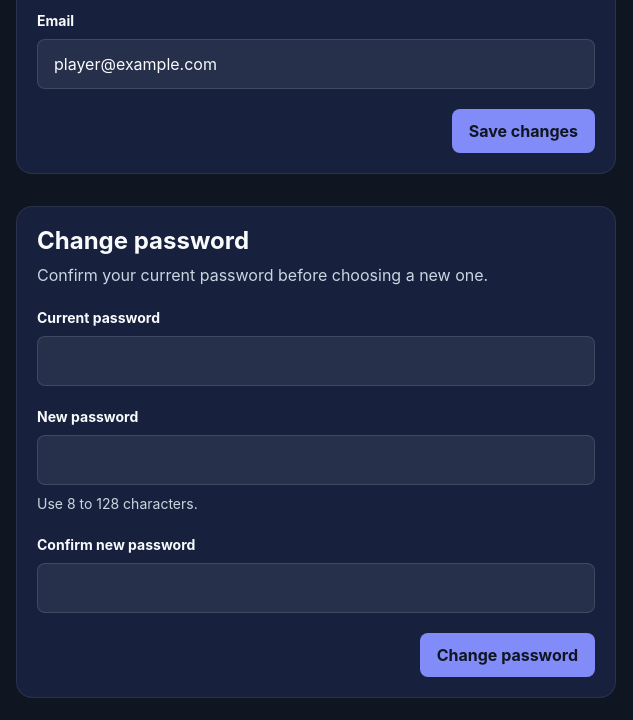
AccountPage password change › rejects a mismatched confirmation in the UI
The width and height of the screenshot is (633, 720).
(page scrolled)
Type "current-password" into the password field labelled "Current password".
click(316, 360); type("current-password")  # box [37, 336, 595, 386]
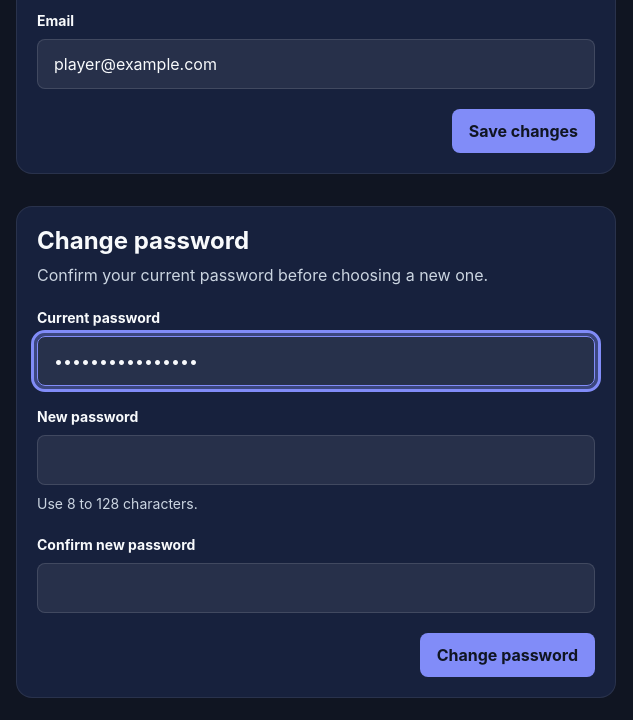
Type "new-password" into the password field labelled "New password".
click(316, 460); type("new-password")  # box [37, 434, 595, 484]
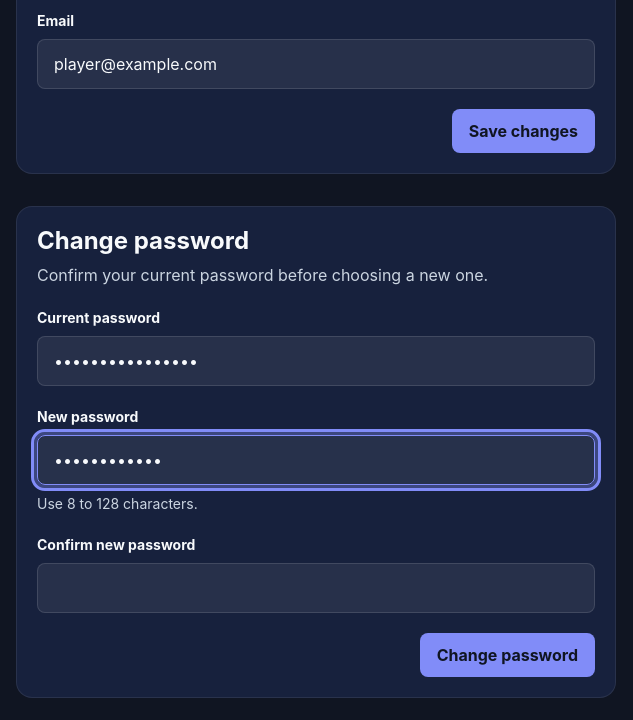
Type "different-password" into the password field labelled "Confirm new password".
click(316, 588); type("different-password")  # box [37, 562, 595, 612]
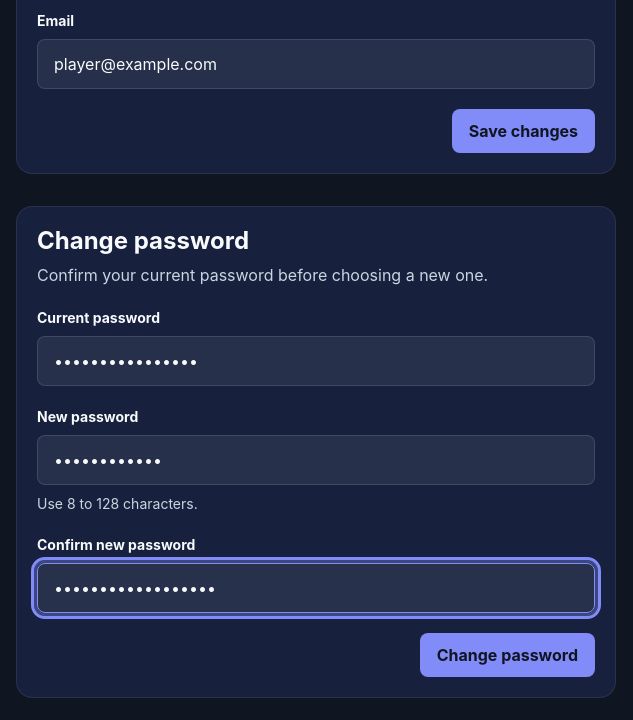
Click the button "Change password".
click(507, 654)  # box [420, 632, 595, 676]
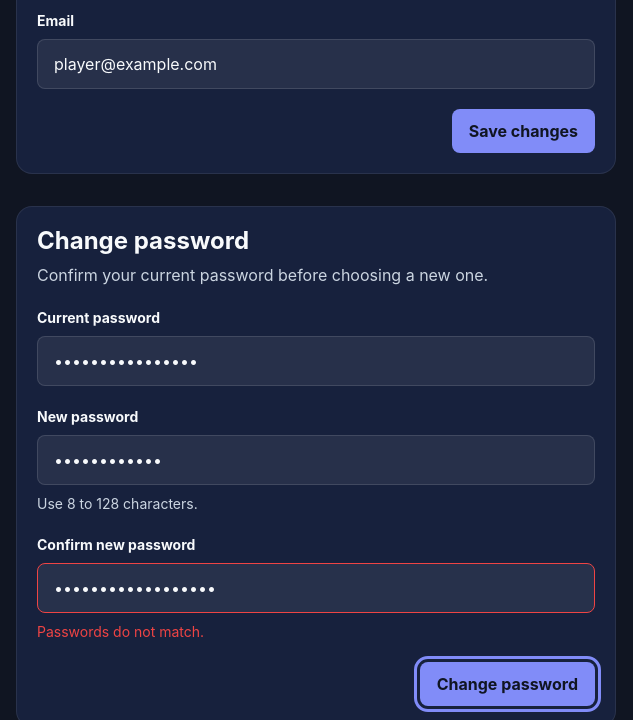
Expected: the text "Passwords do not match." is shown, [37, 622, 204, 640]
